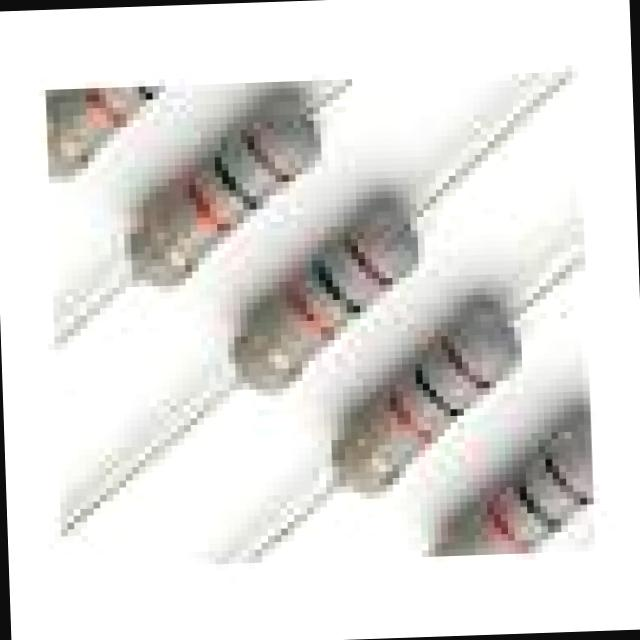Resistor: (124, 101, 314, 287), (331, 308, 515, 498), (234, 211, 412, 396), (435, 418, 587, 556), (45, 86, 162, 182)
black: (312, 253, 360, 324), (416, 357, 463, 421), (506, 479, 554, 538), (209, 157, 256, 215)
brown: (441, 329, 496, 400), (539, 439, 587, 517), (241, 123, 295, 187), (344, 232, 398, 290)
gold: (150, 186, 198, 284), (241, 329, 308, 381)
red: (383, 384, 431, 449), (183, 178, 230, 236), (487, 495, 528, 559), (286, 281, 334, 333), (79, 88, 120, 133)
